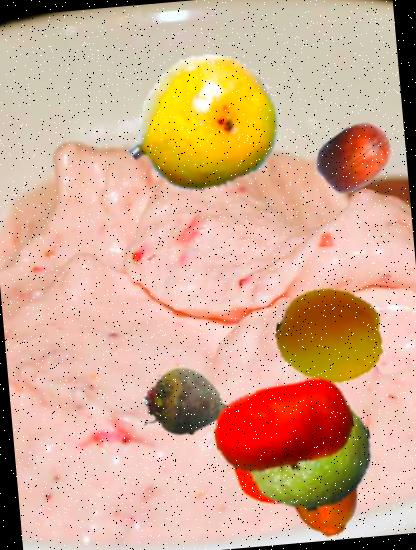Beetroot: (134, 350, 239, 454)
Clementine: (222, 410, 320, 508)
Limes: (237, 379, 377, 520)
Maracuja: (125, 46, 286, 208)
Nectarine: (209, 353, 360, 504)
Nut: (313, 114, 400, 201)
Peach: (272, 277, 390, 396)
Tangelo: (284, 455, 370, 542)
